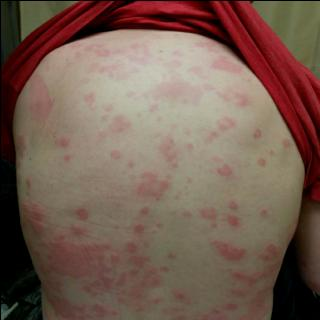urticaria: (54, 264, 116, 297), (128, 169, 175, 205), (153, 76, 206, 106), (128, 216, 154, 271), (84, 44, 151, 64), (32, 79, 57, 123), (24, 203, 52, 238), (71, 204, 94, 244), (213, 242, 257, 262), (159, 133, 188, 160), (228, 89, 255, 113), (107, 113, 132, 135), (209, 57, 240, 74), (212, 158, 237, 178), (258, 206, 277, 224), (255, 156, 268, 169), (252, 129, 263, 141), (228, 199, 236, 212)
